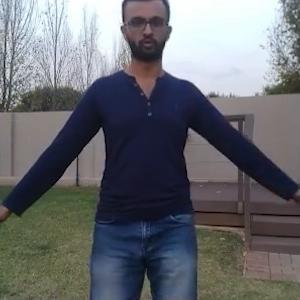land: (22, 8, 272, 299)
